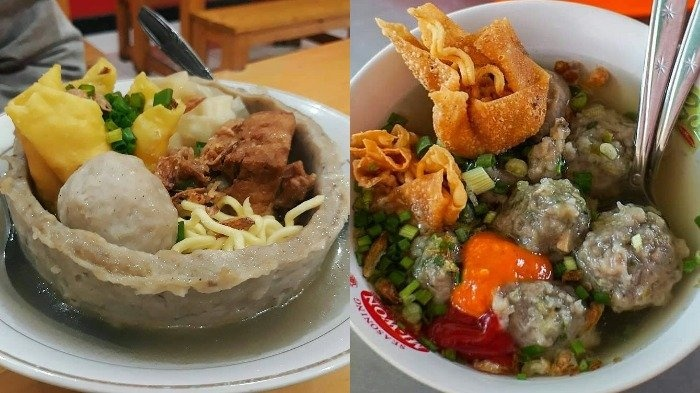bakso_malang: (353, 3, 700, 379)
